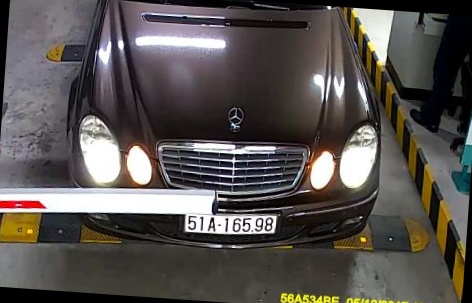plate: (180, 206, 288, 242)
